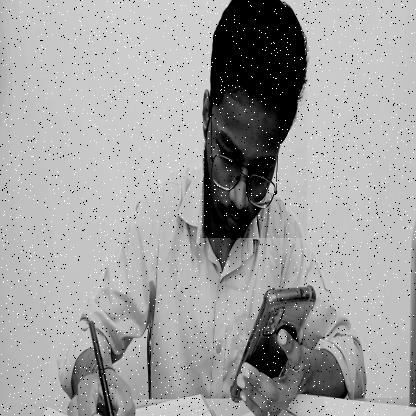Distracted: (202, 0, 307, 238)
